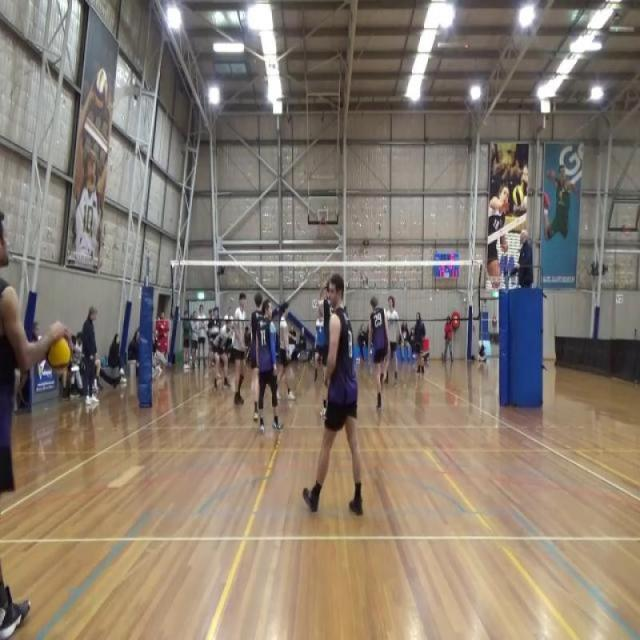volleyball: (45, 328, 74, 376), (95, 65, 108, 113), (512, 184, 525, 208)
